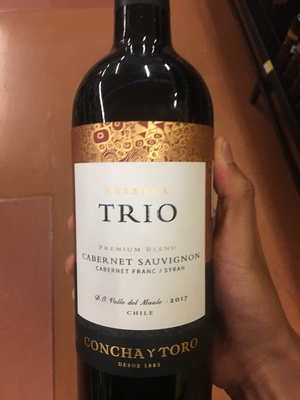trio cabernet sauvignon: (69, 16, 219, 400)
